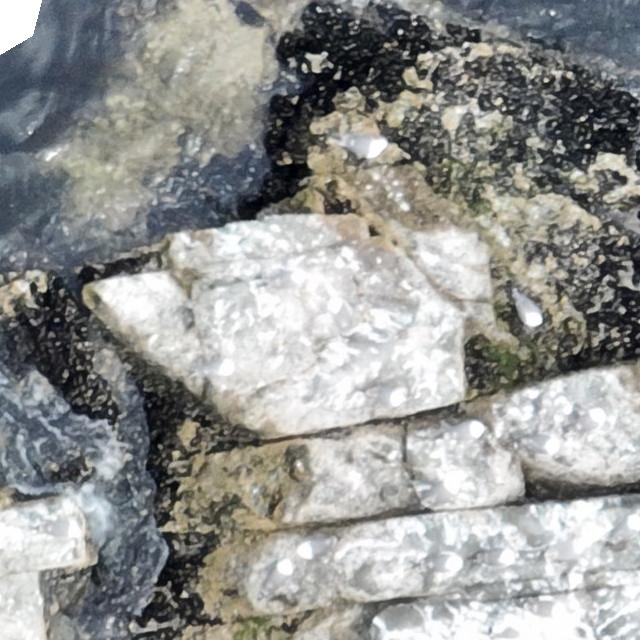umineko: (341, 133, 388, 161), (516, 432, 563, 456), (264, 558, 292, 596), (448, 420, 484, 449), (326, 295, 355, 331), (523, 596, 567, 618), (606, 514, 638, 544), (424, 552, 464, 575), (298, 534, 336, 558), (470, 546, 515, 566), (575, 408, 607, 436), (197, 357, 239, 378), (365, 386, 406, 407), (518, 296, 542, 325)
